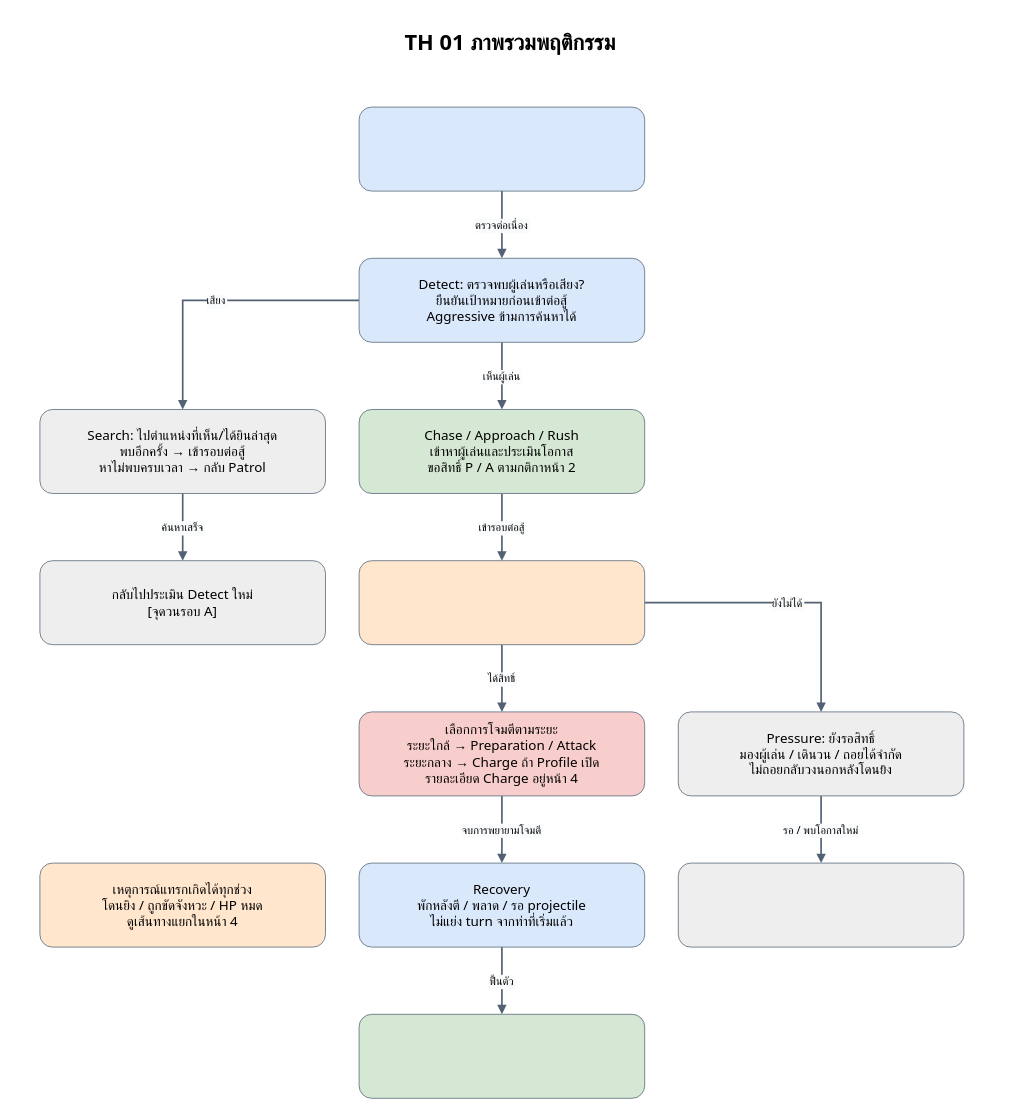
The diagram is 1020 pixels wide and 1113 high, and some of its shapes have lost their labels. The box of each missing label's shape, as (x1, y1, x2, y2) in pixels:
Idle / Patrol ยืนรอหรือเดินตามเส้นทาง: (358, 106, 645, 191)
กลับมาประเมินสิทธิ์และโอกาสใหม่ [จุดวนรอบ B · ดูหน้า 2]: (677, 862, 964, 947)
คืน attack turn แล้วประเมินใหม่ [จุดวนรอบ B · เข้ารอบต่อสู้]: (358, 1013, 645, 1098)
ได้รับ attack turn A+ แล้ว? และพ้น shared start interval เป้าหมายรับการโจมตีได้: (358, 560, 645, 645)
